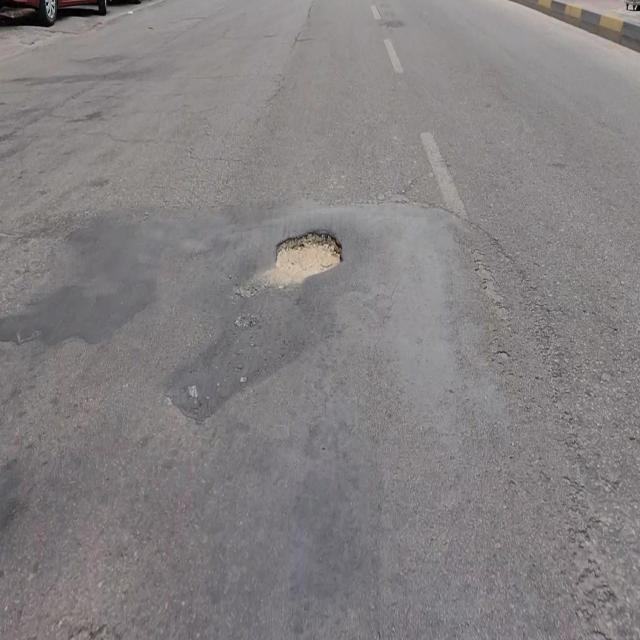Potholes: (273, 228, 343, 288)
